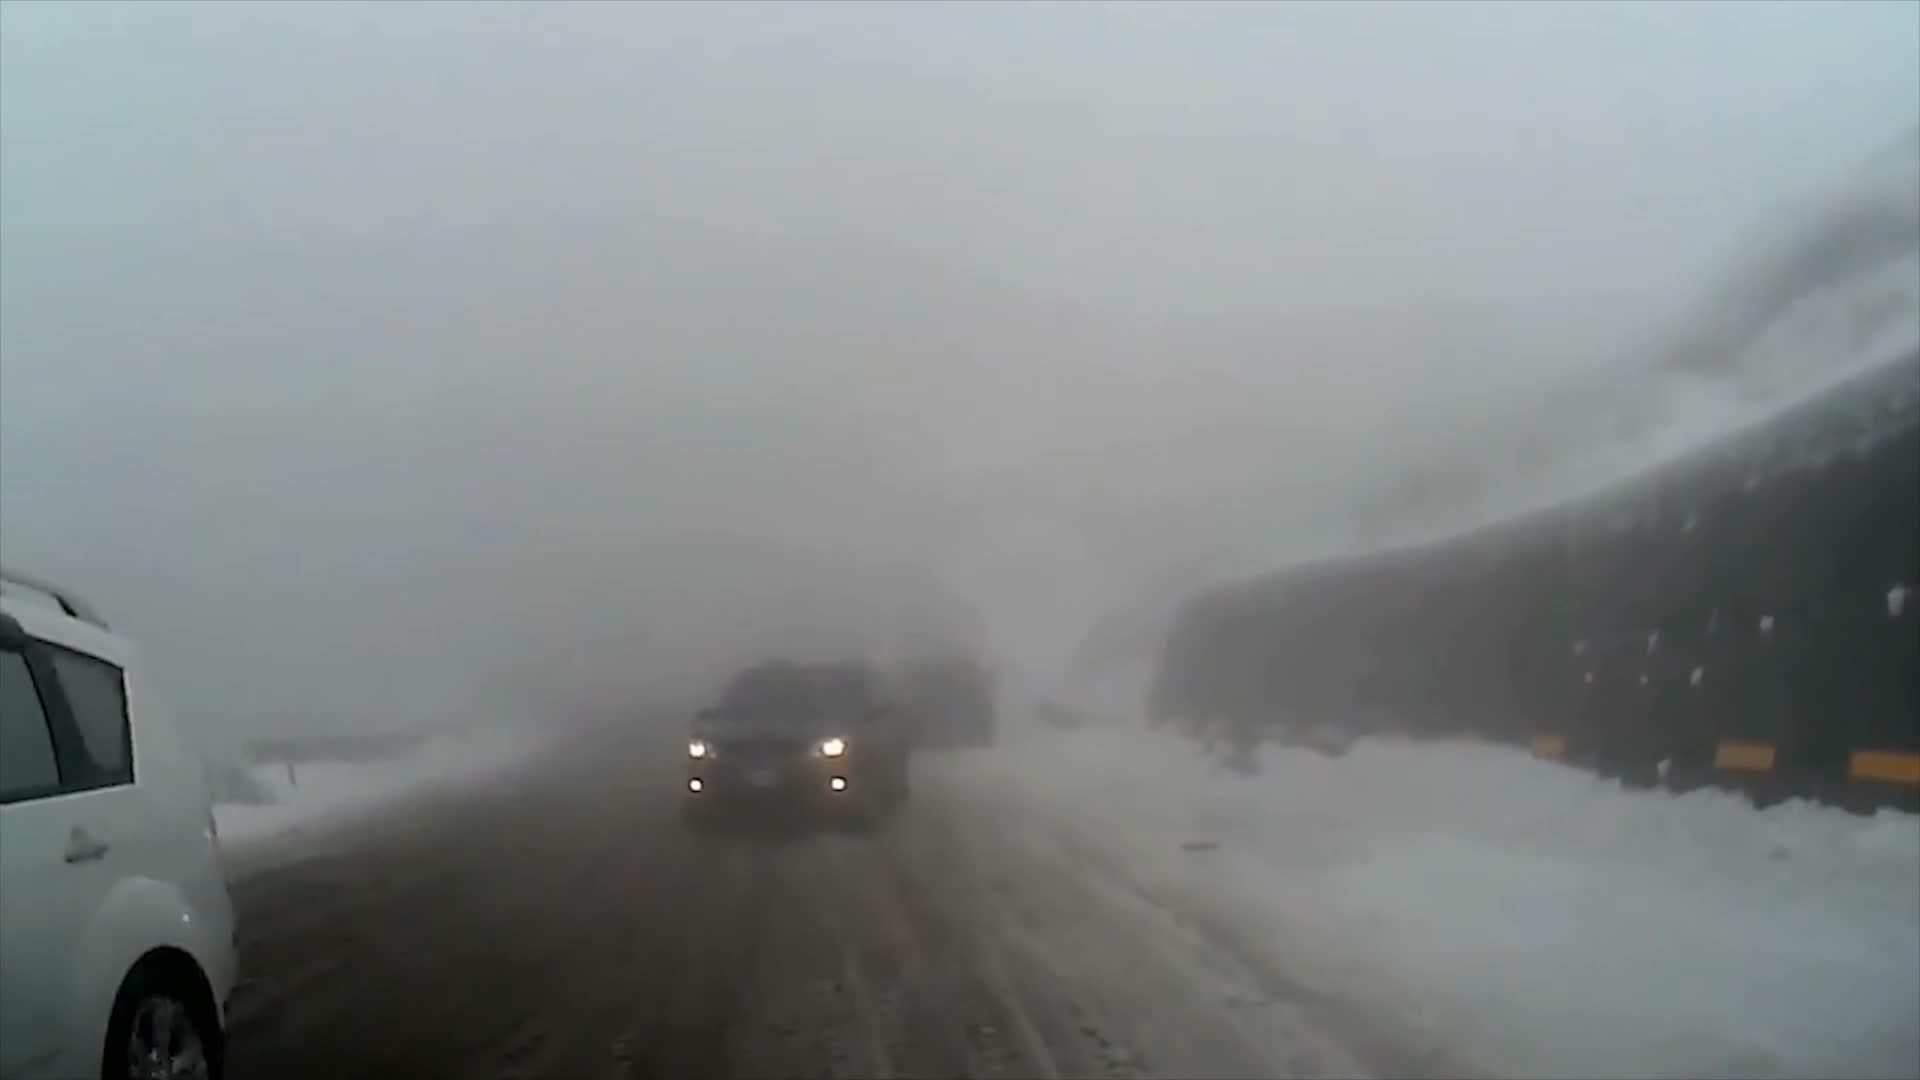vehicle: (0, 562, 240, 1080), (679, 655, 909, 837)
